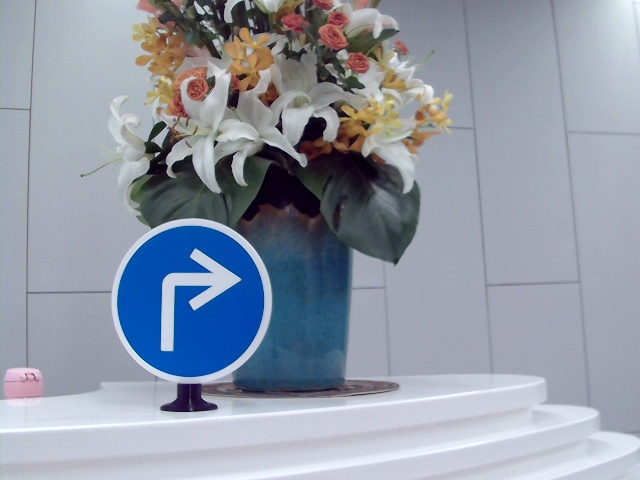turn_right: (152, 251, 243, 351)
